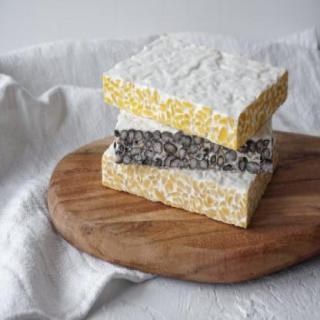Tempe: (97, 33, 292, 232)
